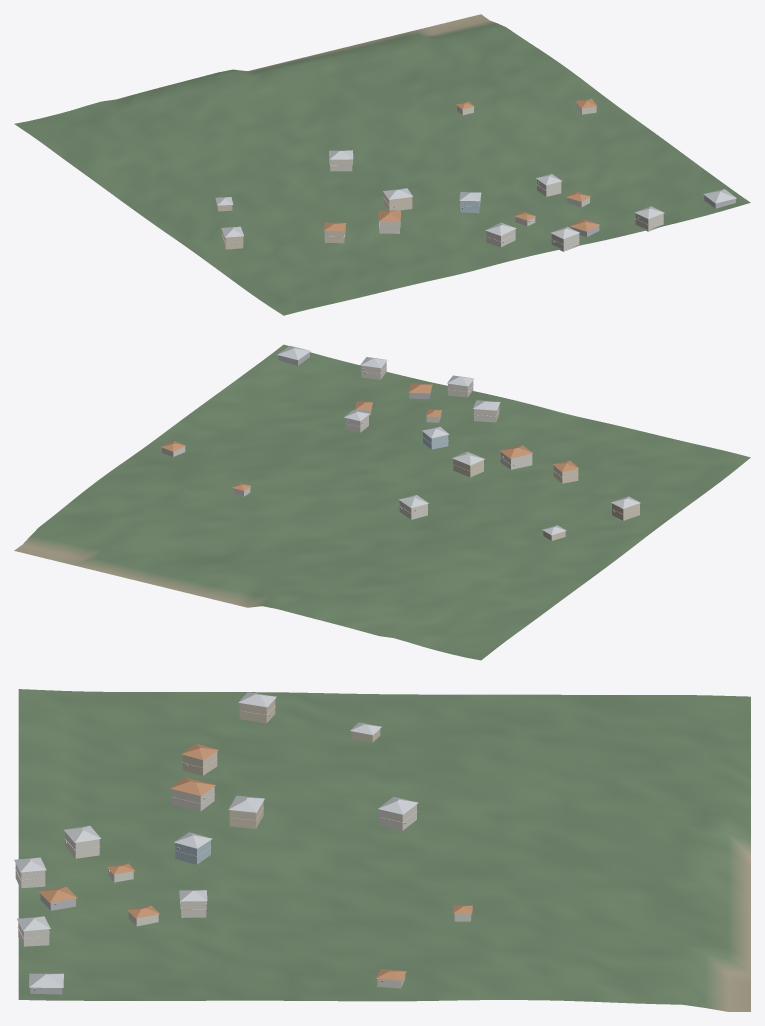
3 renders of one model, top to bottom at view 1: azimuth 30°, elevation 25°; view 2: azimuth 150°, elevation 25°; view 3: azimuth 270°, elevation 25°, orthographic. The views are drawn at different scales.
Parts seen in each view (by area): view 1: Terrain-col, Buildings-col; view 2: Terrain-col, Buildings-col; view 3: Terrain-col, Buildings-col, Details.
Part boxes in pixels (x1,y1,x2,y2): Terrain-col: (14,14,750,315); Buildings-col: (215,98,736,251); Terrain-col: (14,344,750,660); Buildings-col: (161,345,640,540); Terrain-col: (18,689,750,1011); Buildings-col: (14,692,472,994); Details: (15,705,417,990).
Bounding box in the file's own units: 256 × 13.42 × 258.
